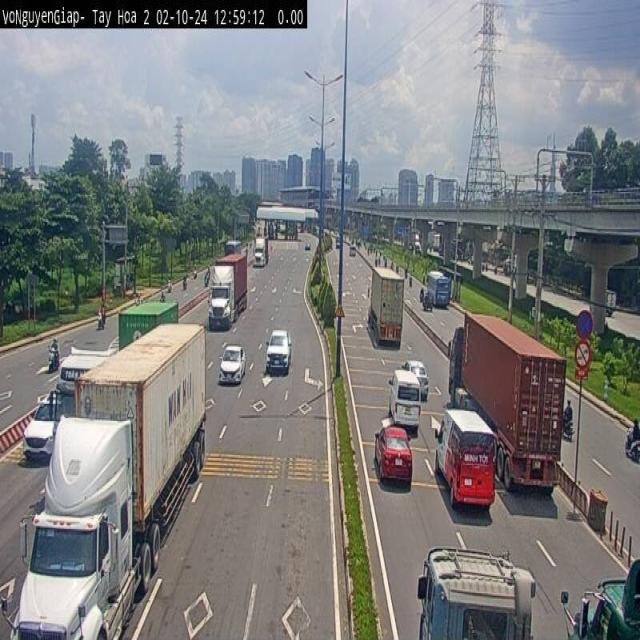bus: (420, 267, 453, 310)
car: (436, 401, 490, 523), (370, 432, 420, 498), (26, 392, 60, 466), (386, 372, 414, 432), (406, 350, 431, 417), (265, 328, 291, 376), (218, 344, 246, 386)
container-truck: (10, 322, 206, 638), (65, 294, 169, 408), (424, 547, 541, 640), (207, 247, 247, 330), (248, 237, 274, 270)
motorcycle: (38, 352, 64, 380), (625, 435, 640, 475), (561, 423, 578, 451), (94, 290, 109, 312), (93, 309, 109, 329)
person: (47, 326, 61, 356), (628, 415, 640, 440), (562, 399, 577, 418)
truck: (461, 310, 567, 472), (366, 265, 404, 347)
